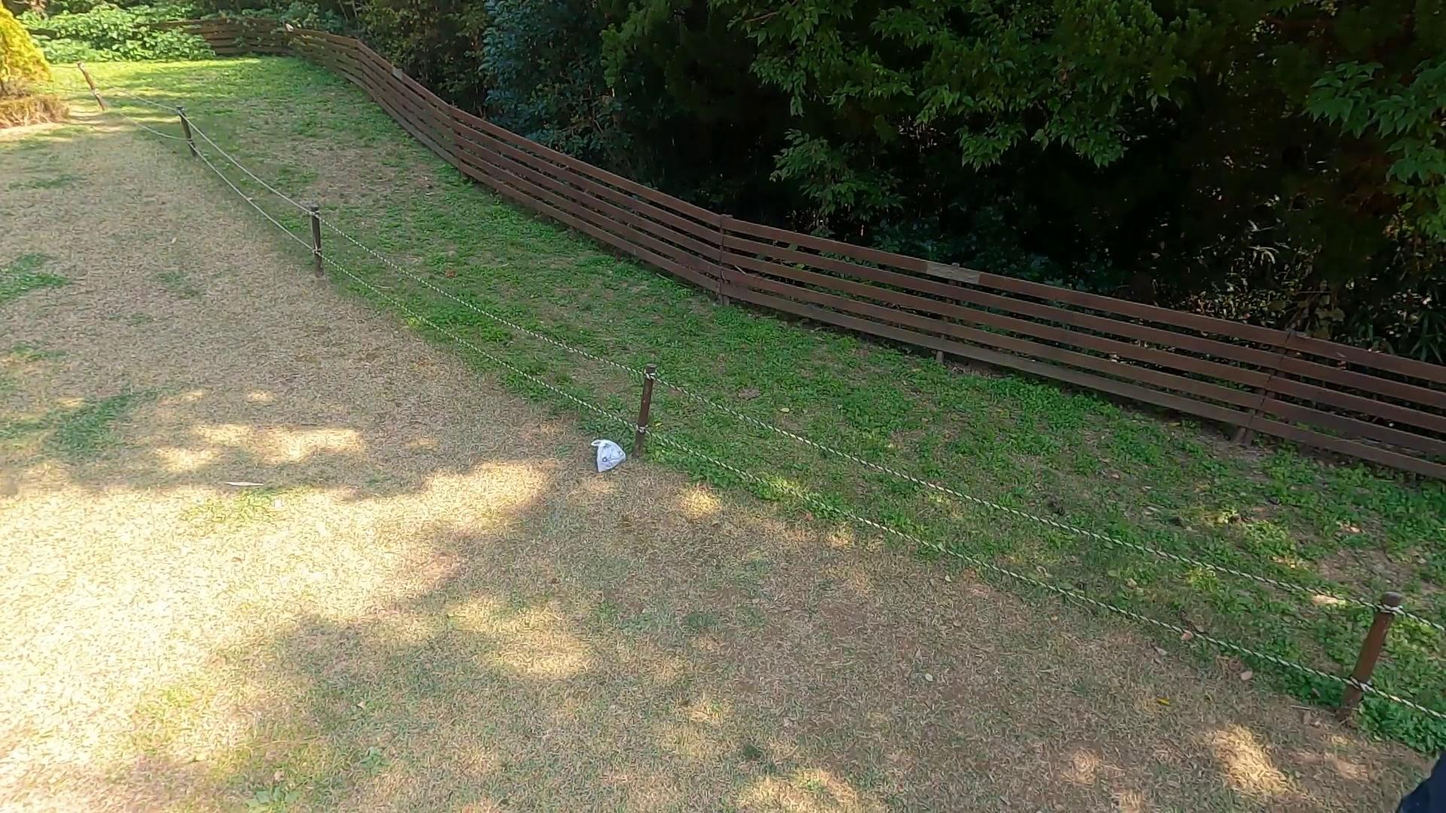trash: (591, 438, 629, 472)
